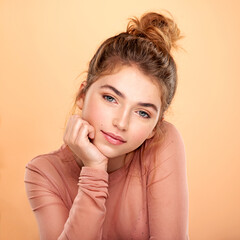teen: (69, 25, 192, 161)
